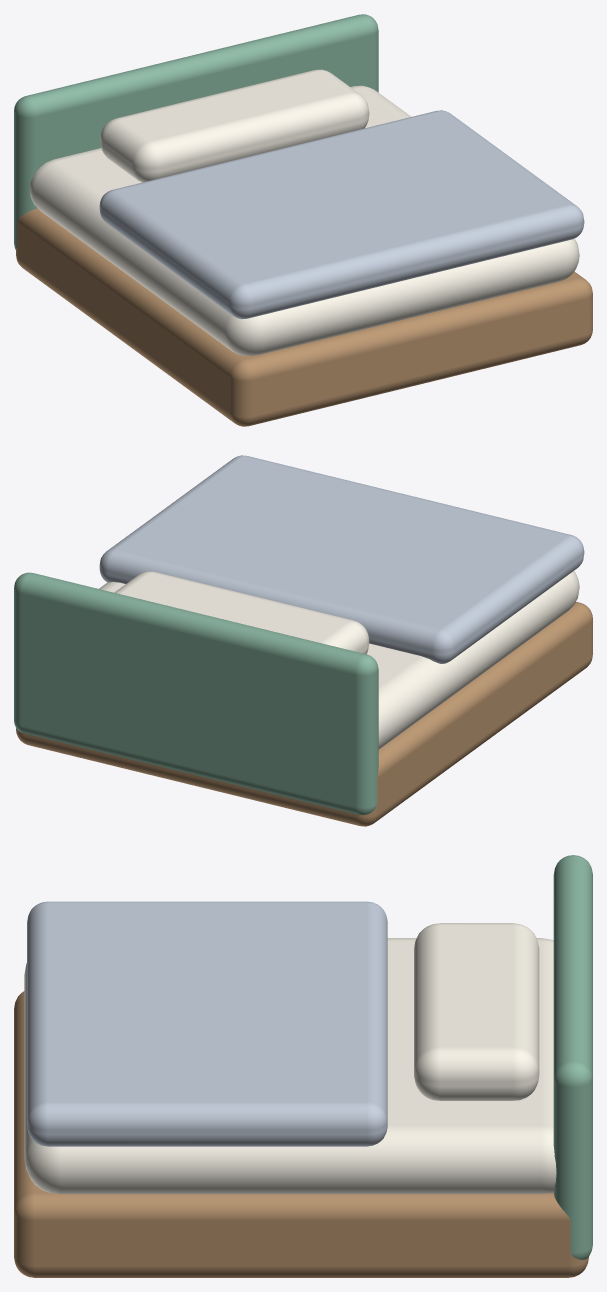
File: bed.glb
The picture shows the model from 3 angles, top to bottom: view 1: azimuth 30°, elevation 25°; view 2: azimuth 150°, elevation 25°; view 3: azimuth 270°, elevation 25°; orthographic projection. The views are drawn at different scales.
Parts seen in each view (by area): view 1: bed; view 2: bed; view 3: bed.
Boxes of the visible parts, <box> form: bed: <box>14,14,592,426</box>; bed: <box>14,455,592,826</box>; bed: <box>14,855,592,1277</box>.
Bounding box in the file's own units: 2 × 0.91 × 2.22.
